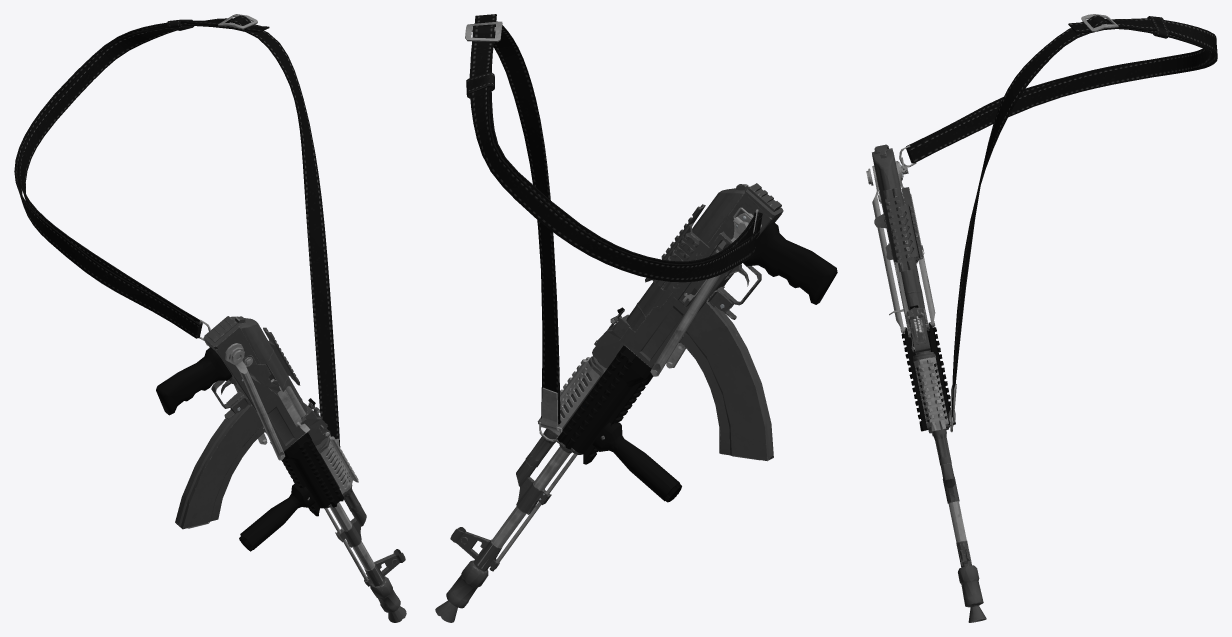
File: waerpon_onli.fbx
3 views of the same model, side by side, from view 1: azimuth 30°, elevation 25°; view 2: azimuth 150°, elevation 25°; view 3: azimuth 270°, elevation 25° (orthographic). The views are drawn at different scales.
Parts seen in each view (by area): view 1: waerpon_onli; view 2: waerpon_onli; view 3: waerpon_onli.
Part boxes in pixels (x1,y1,x2,y2): waerpon_onli: [14, 14, 406, 622]; waerpon_onli: [435, 14, 837, 622]; waerpon_onli: [866, 14, 1217, 622].
Size of the model in its own units: 0.3546 by 0.6442 by 0.3659.
